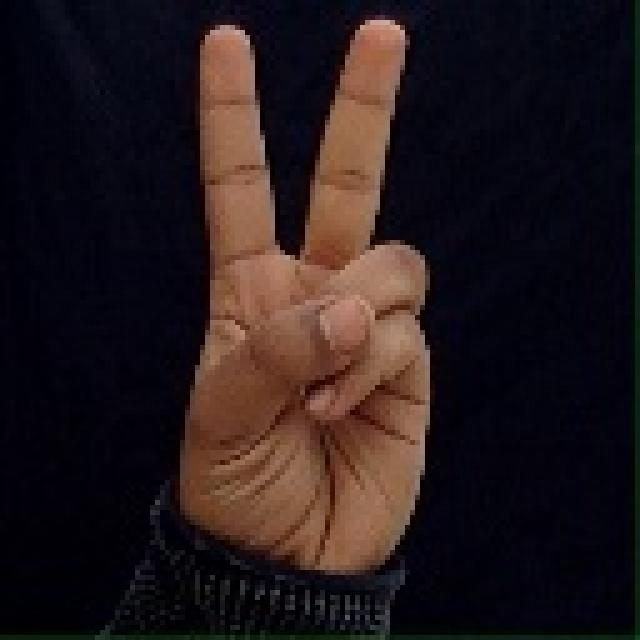Two: (135, 7, 485, 603)
